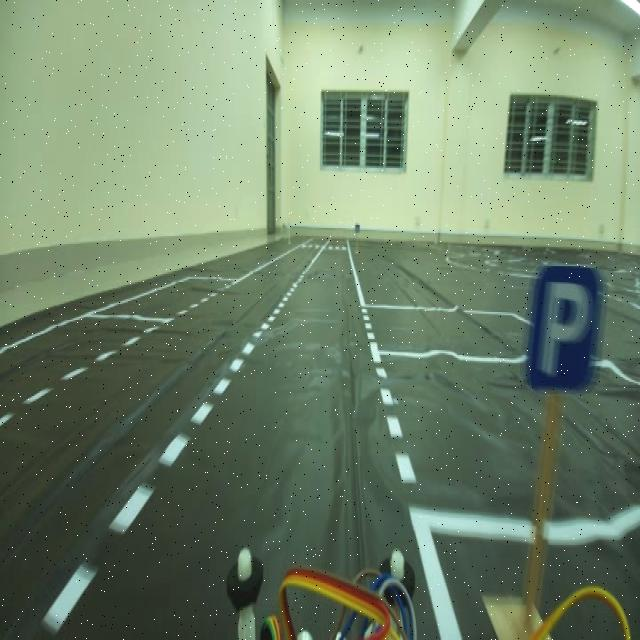parking: (526, 237, 614, 413)
